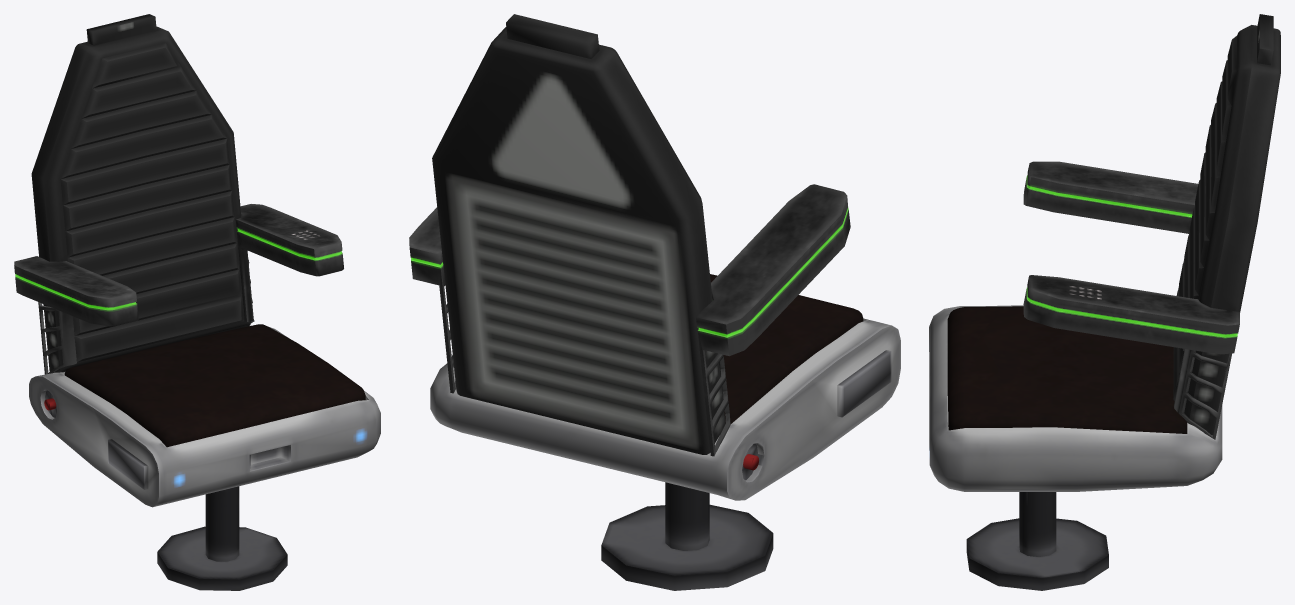
File: helm_b.glb
The picture shows the model from 3 angles, left to right: view 1: azimuth 30°, elevation 25°; view 2: azimuth 150°, elevation 25°; view 3: azimuth 270°, elevation 25°; orthographic projection. The views are drawn at different scales.
Parts seen in each view (by area): view 1: helm; view 2: helm; view 3: helm.
Boxes of the visible parts, left/top/right/bottom form: helm: left=14, top=14, right=380, bottom=590; helm: left=409, top=14, right=900, bottom=590; helm: left=929, top=14, right=1280, bottom=590.
Bounding box in the file's own units: 0.9252 × 1.66 × 1.
3 materials, 3 textured.
